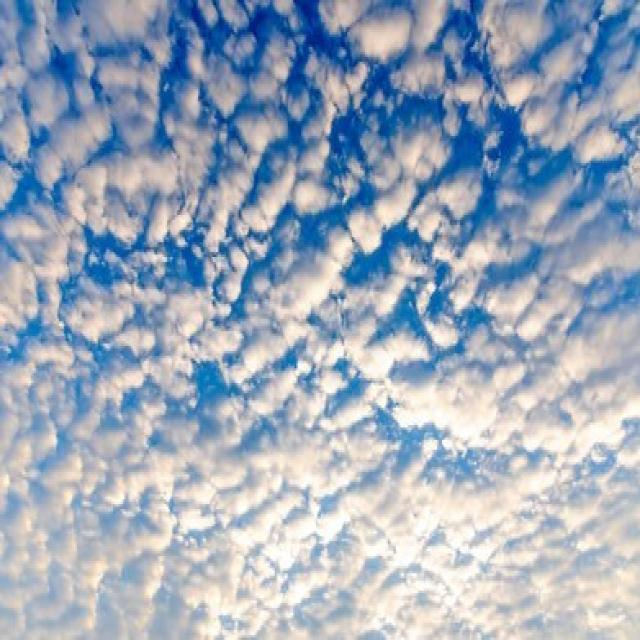altocumulus: (36, 45, 618, 626)
